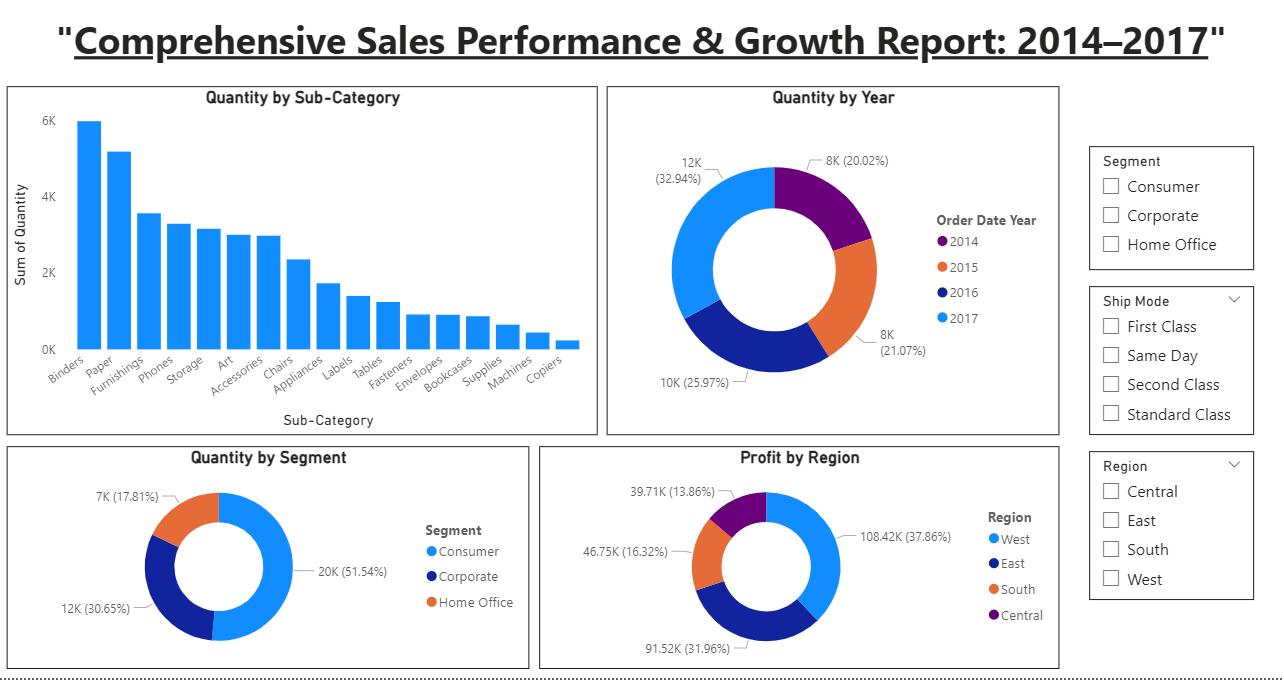

The dashboard page shown, as its layout file describes it:
{"tool":"powerbi","page":{"name":"Page 1","canvas":[1280,720],"ordinal":0},"visuals":[{"type":"clusteredColumnChart","title":"Quantity by Sub-Category","fields":{"Category":["Sales Repot FY 2014 - 17.Sub-Category"],"Y":["Sum(Sales Repot FY 2014 - 17.Quantity)"]},"box":[8.7,130.6,588.4,347.1],"z":0},{"type":"donutChart","title":"Quantity by Year","fields":{"Category":["Sales Repot FY 2014 - 17.Order Date.Variation.Date Hierarchy.Year","Sales Repot FY 2014 - 17.Order Date.Variation.Date Hierarchy.Quarter"],"Y":["Sum(Sales Repot FY 2014 - 17.Quantity)"]},"box":[605.8,130.6,450.3,347.1],"z":1000},{"type":"donutChart","title":"Quantity by Segment","fields":{"Category":["Sales Repot FY 2014 - 17.Segment"],"Y":["Sum(Sales Repot FY 2014 - 17.Quantity)"]},"box":[8.7,488.9,520,221.4],"z":2000},{"type":"donutChart","title":"Profit by Region","fields":{"Y":["Sum(Sales Repot FY 2014 - 17.Profit)"],"Category":["Sales Repot FY 2014 - 17.Region"]},"box":[538.6,488.9,517.5,221.4],"z":3000},{"type":"slicer","fields":{"Values":["Sales Repot FY 2014 - 17.Segment"]},"box":[1086,190.3,164.2,123.2],"z":4000},{"type":"slicer","fields":{"Values":["Sales Repot FY 2014 - 17.Ship Mode"]},"box":[1086,329.6,164.2,148],"z":5000},{"type":"slicer","fields":{"Values":["Sales Repot FY 2014 - 17.Region"]},"box":[1086,493.9,164.2,148],"z":6000},{"type":"textbox","box":[0,53.5,1280,77.1],"z":7000}]}

Visuals, with their boxes in screenshot pixels (x1, y1, x2, y2):
"Quantity by Sub-Category" clusteredColumnChart: [5, 84, 593, 431]
"Quantity by Year" donutChart: [602, 84, 1052, 431]
"Quantity by Segment" donutChart: [5, 442, 525, 663]
"Profit by Region" donutChart: [535, 442, 1052, 663]
slicer - Sales Repot FY 2014 - 17.Segment: [1082, 143, 1246, 266]
slicer - Sales Repot FY 2014 - 17.Ship Mode: [1082, 283, 1246, 430]
slicer - Sales Repot FY 2014 - 17.Region: [1082, 447, 1246, 595]
textbox: [0, 7, 1276, 84]
